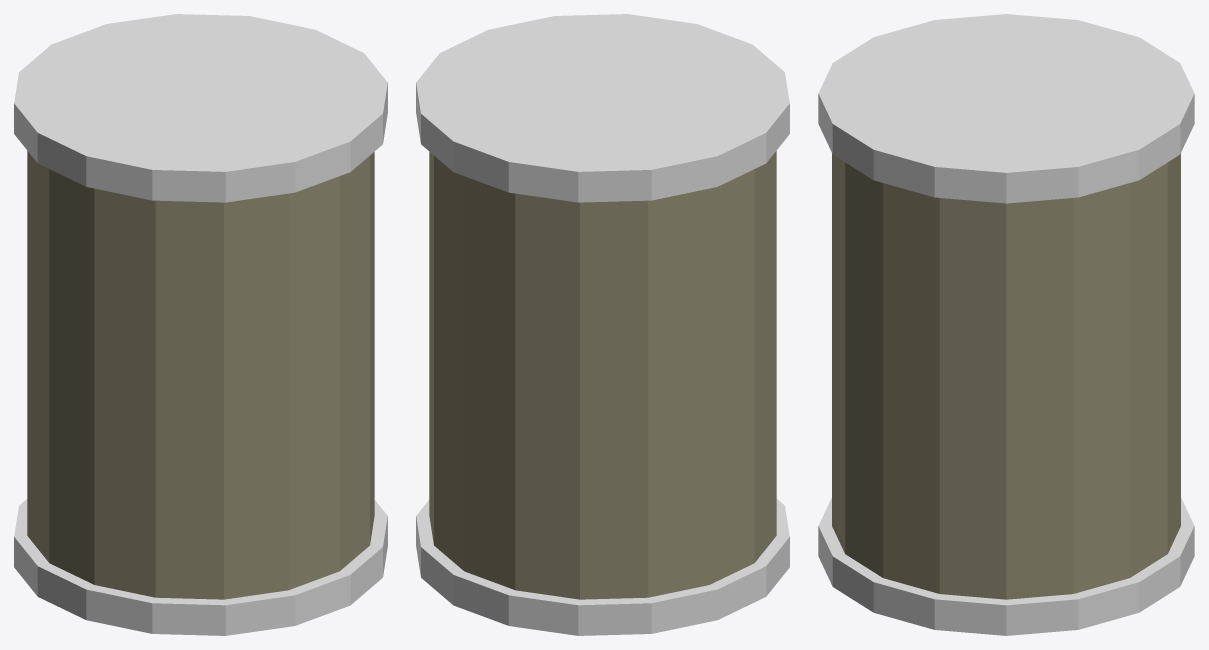
The model's file is i_vanillawhey.glb.
3 renders of one model, left to right at view 1: azimuth 30°, elevation 25°; view 2: azimuth 150°, elevation 25°; view 3: azimuth 270°, elevation 25°, orthographic.
Parts seen in each view (by area): view 1: Cylinder; view 2: Cylinder; view 3: Cylinder.
Part boxes in pixels (left/top/right/bottom): Cylinder: left=14, top=14, right=387, bottom=635; Cylinder: left=416, top=14, right=789, bottom=635; Cylinder: left=818, top=14, right=1194, bottom=635.
Size of the model in its own units: 0.6317 by 0.8582 by 0.6317.
